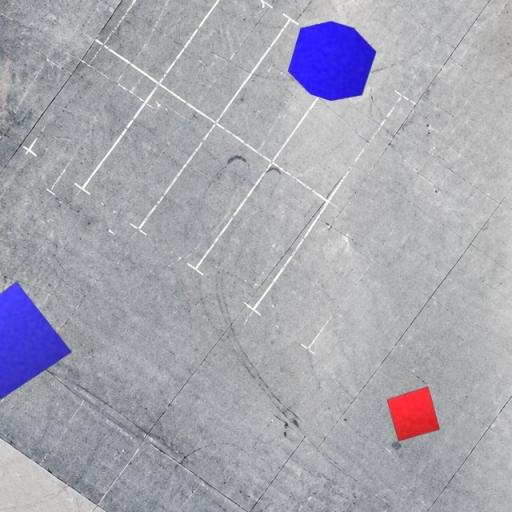BLUE_SQUARE: (0, 281, 72, 400)
RED_SQUARE: (386, 386, 441, 442)
